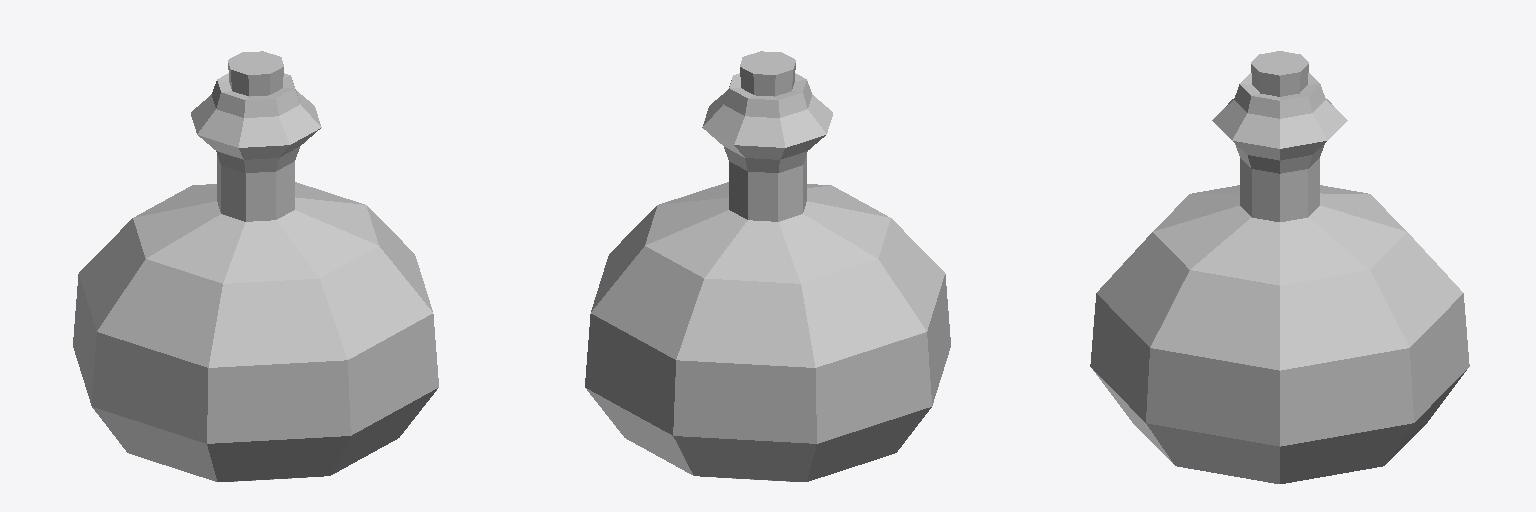
File: flachabyme2.obj
3 renders of one model, left to right at view 1: azimuth 30°, elevation 25°; view 2: azimuth 150°, elevation 25°; view 3: azimuth 270°, elevation 25°, orthographic.
Visible parts, largest first — view 1: flacha, cap; view 2: flacha, cap; view 3: flacha, cap.
Boxes of the visible parts, x1,y1,x2,y2 form: flacha: [73, 73, 438, 481]; cap: [228, 51, 283, 96]; flacha: [585, 73, 950, 481]; cap: [740, 51, 795, 96]; flacha: [1090, 73, 1469, 483]; cap: [1251, 51, 1308, 96].
Bounding box in the file's own units: 1.78 × 1.99 × 1.78.